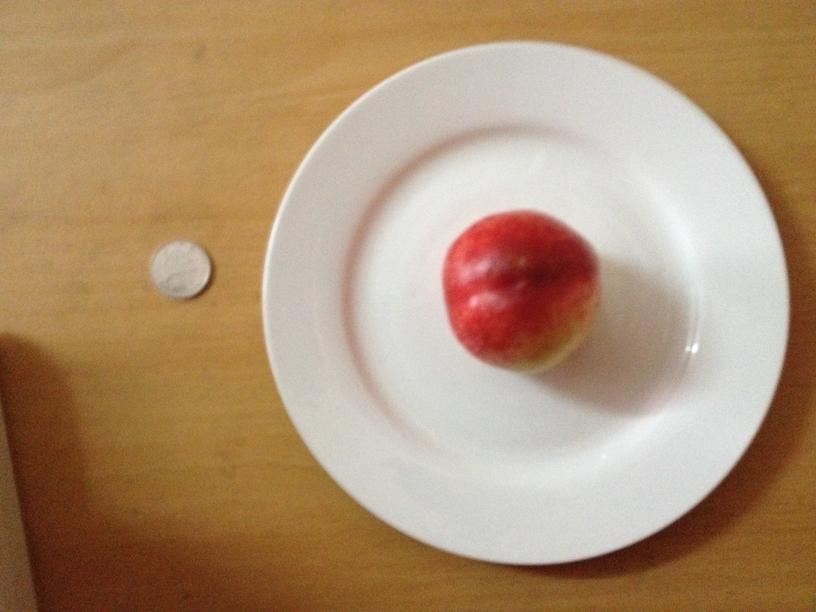coin: (147, 240, 215, 300)
peach: (442, 212, 600, 373)
